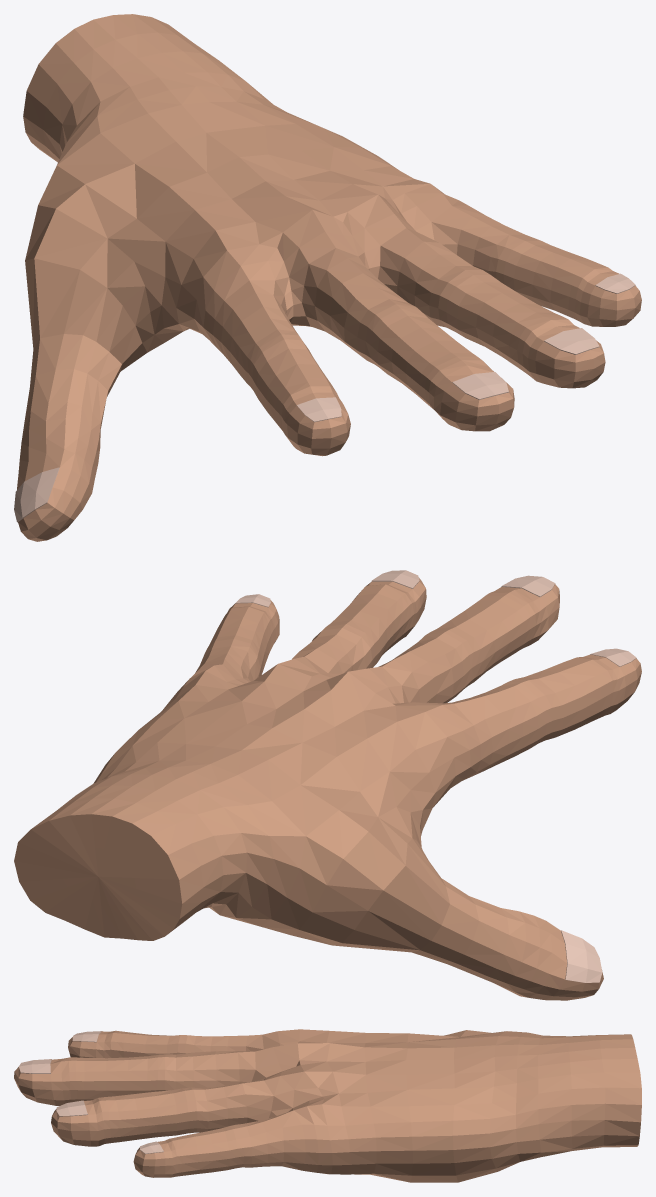
The model's file is btWmPNVSKUc.glb.
The picture shows the model from 3 angles, top to bottom: view 1: azimuth 30°, elevation 25°; view 2: azimuth 150°, elevation 25°; view 3: azimuth 270°, elevation 25°; orthographic projection. The views are drawn at different scales.
Parts seen in each view (by area): view 1: Node; view 2: Node; view 3: Node.
Part boxes in pixels (box(x1,y1,x2,y2)): Node: box(14, 14, 641, 541); Node: box(14, 570, 641, 1000); Node: box(14, 1029, 641, 1182).
Size of the model in its own units: 1.82 by 0.9999 by 2.75.
